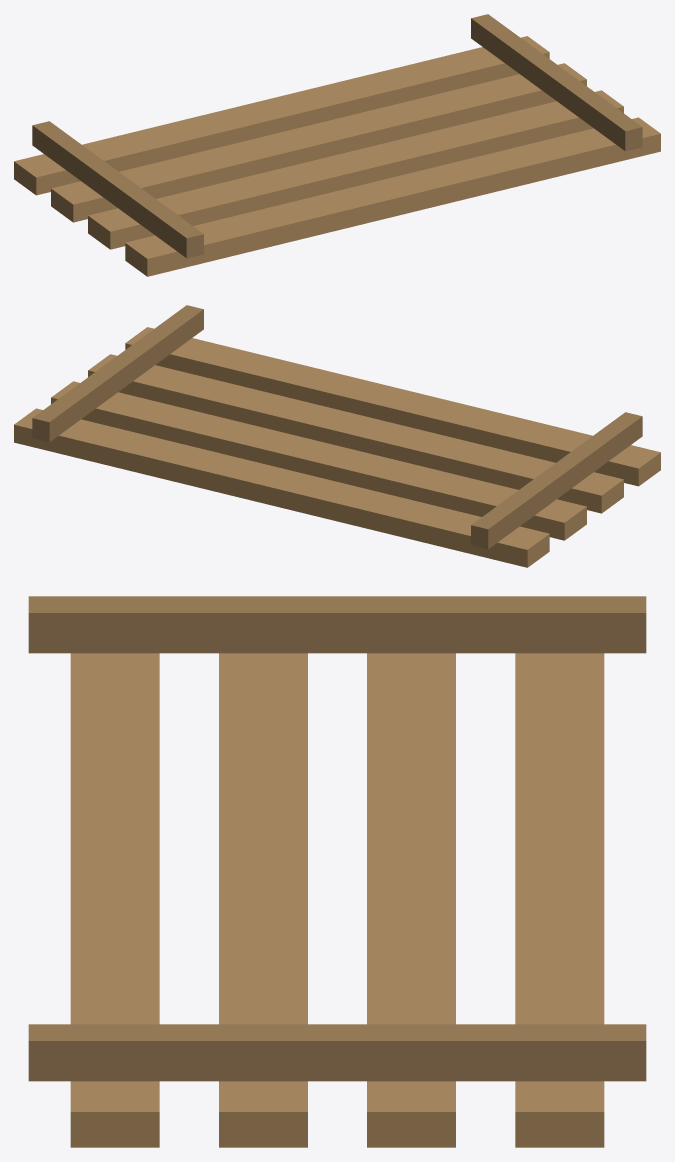
File: wood_bridge.glb
3 views of the same model, one above another, from view 1: azimuth 30°, elevation 25°; view 2: azimuth 150°, elevation 25°; view 3: azimuth 270°, elevation 25° (orthographic). The views are drawn at different scales.
Visible parts, largest first — view 1: wood_bridge; view 2: wood_bridge; view 3: wood_bridge.
Boxes of the visible parts, <box> form: wood_bridge: <box>14,14,660,276</box>; wood_bridge: <box>14,305,660,567</box>; wood_bridge: <box>28,596,646,1147</box>.
Bounding box in the file's own units: 4.8 × 0.35 × 2.5.
